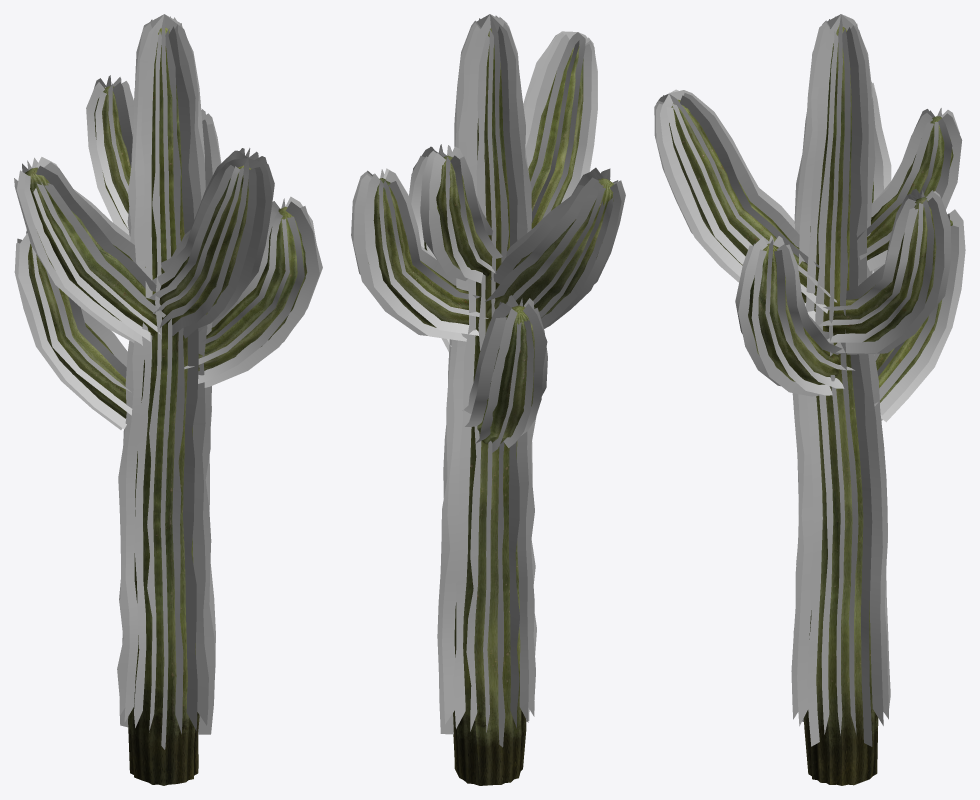
File: Cactus_1.FBX
3 renders of one model, left to right at view 1: azimuth 30°, elevation 25°; view 2: azimuth 150°, elevation 25°; view 3: azimuth 270°, elevation 25°, orthographic.
Parts seen in each view (by area): view 1: CactusMesh_LOD0; view 2: CactusMesh_LOD0; view 3: CactusMesh_LOD0.
Boxes of the visible parts, box(x1,y1,x2,y2) form: CactusMesh_LOD0: box(14, 14, 322, 785); CactusMesh_LOD0: box(351, 14, 625, 785); CactusMesh_LOD0: box(654, 14, 965, 785).
Size of what is drawn, in the model's own units: 10.62 by 29.84 by 11.1.
